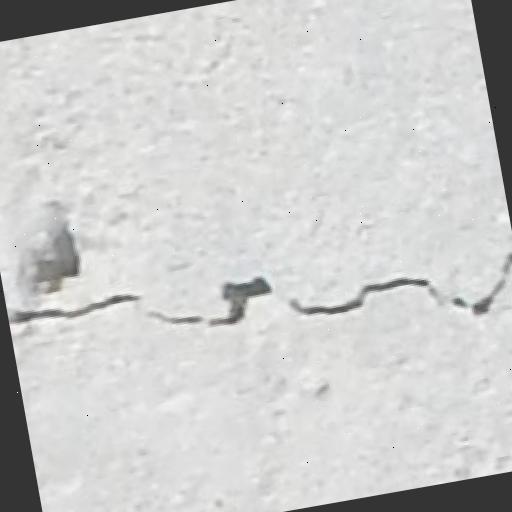spalling: (17, 242, 512, 344)
